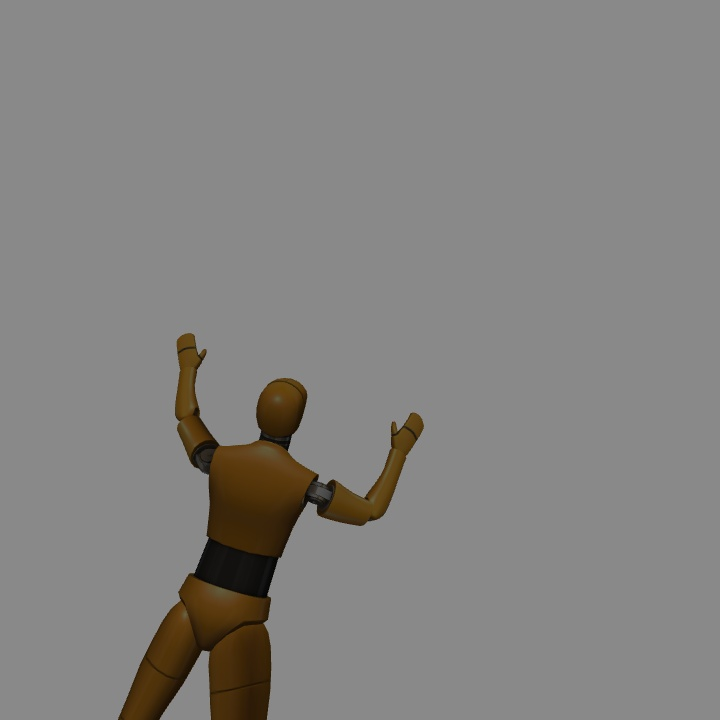victim: (177, 333, 316, 720)
